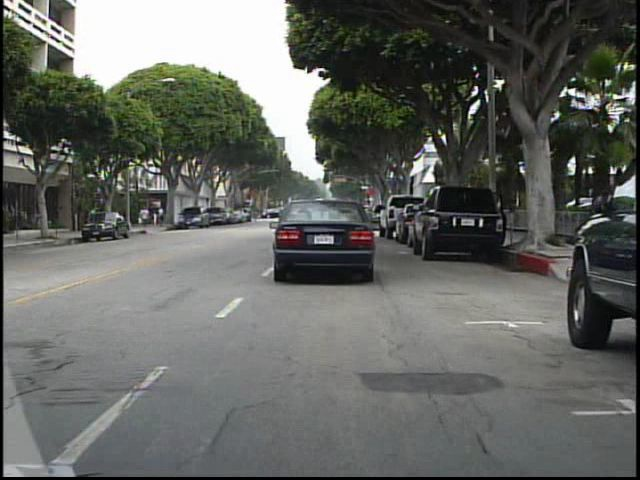person: (139, 203, 154, 232), (157, 202, 170, 230)
